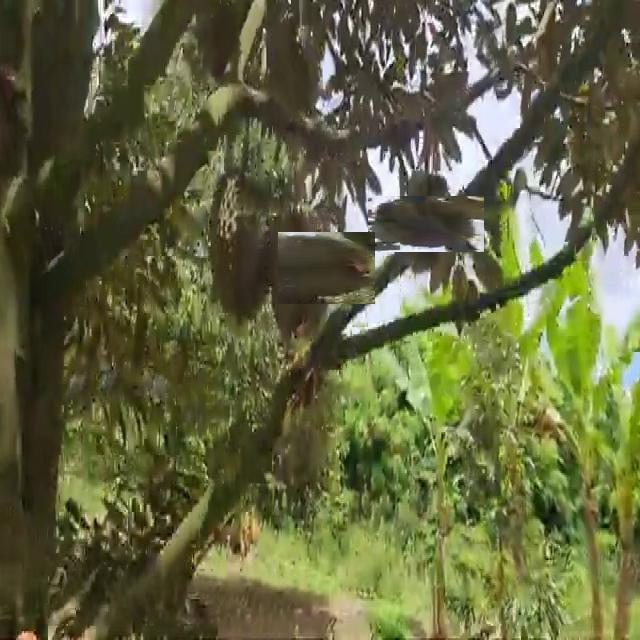durian: (244, 212, 356, 324), (204, 162, 278, 327), (383, 181, 469, 268)
